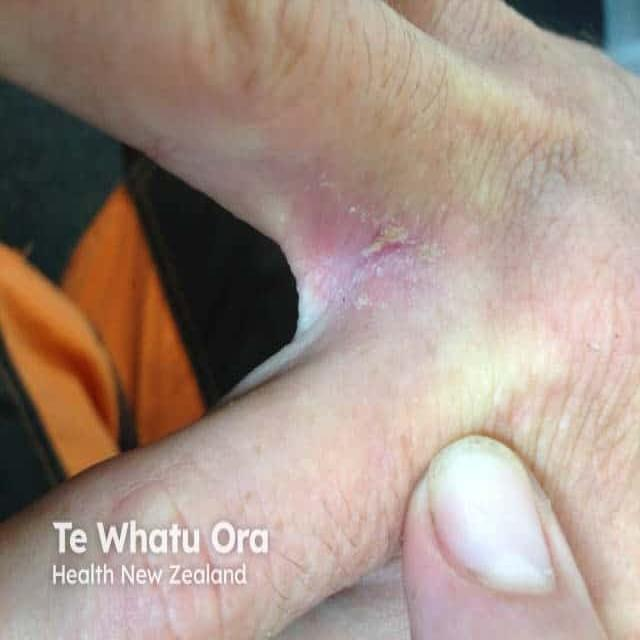Eczema: (294, 178, 442, 326)
